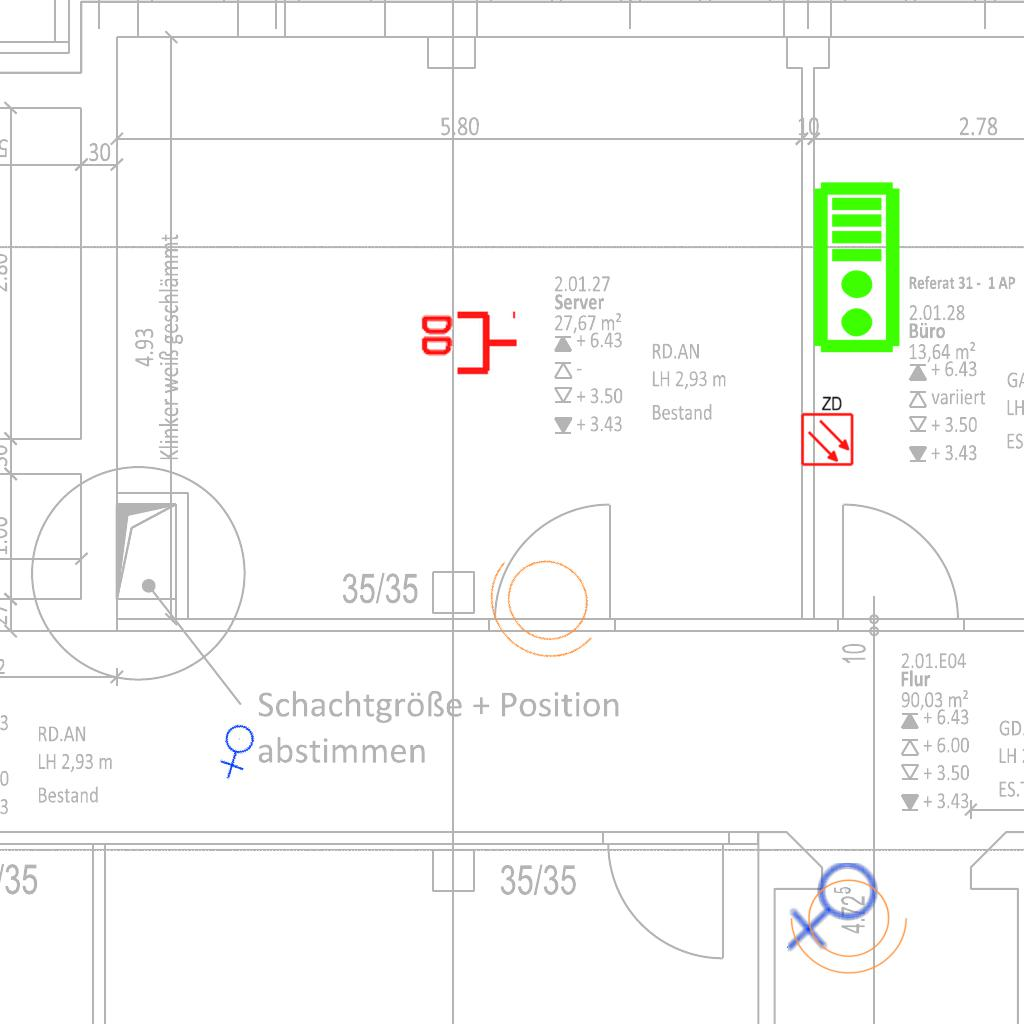Datenanschluss_zweifach: (417, 310, 520, 379)
Elektroanschluss_allgemein_230V_Geraeteanschlussdose_230V: (786, 861, 885, 955), (205, 717, 272, 782)
Gegensprechanlage_mit_Video: (811, 180, 906, 356)
Scheinwerfer_fuer_Alarmbeleuchtung: (460, 520, 634, 692), (786, 867, 918, 979)
ZD_Melder_in_Zwischendecke_mit_Revisionsoeffnung_mind_40_x_40_cm: (798, 393, 855, 467)
